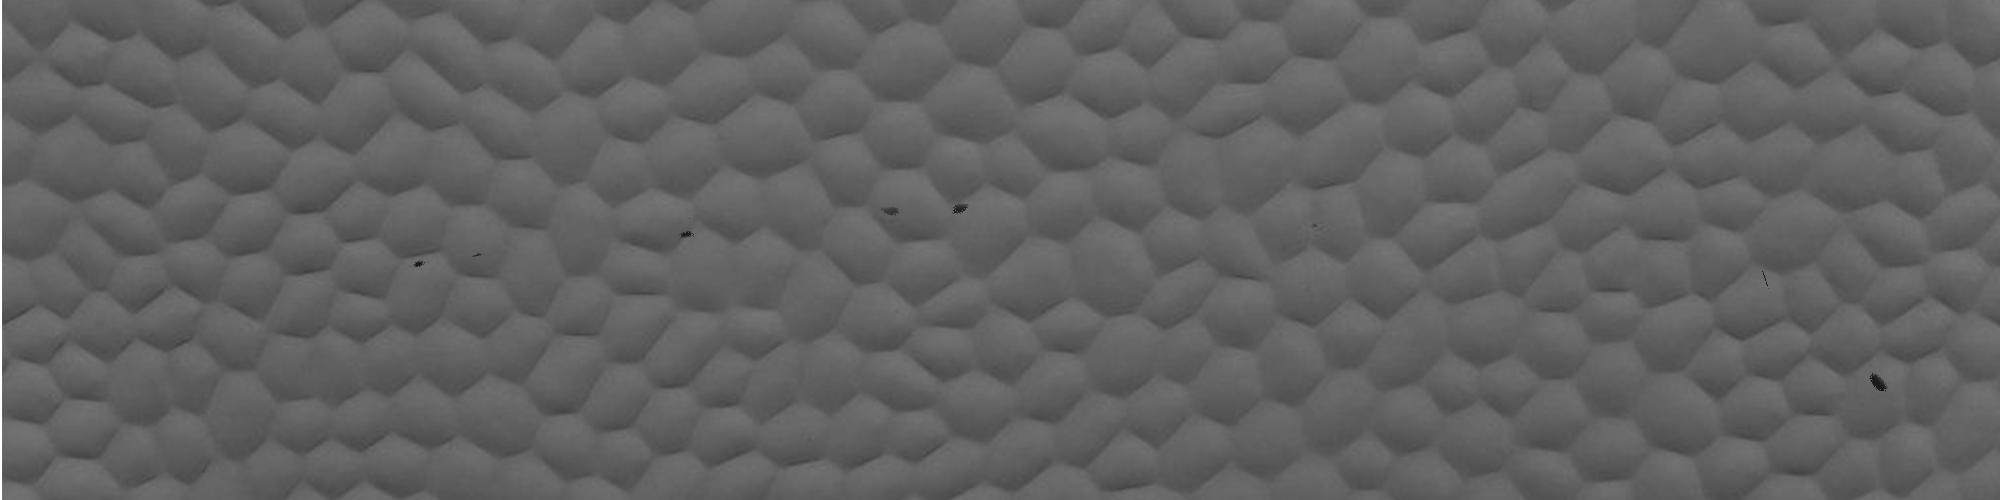Decomposed: (943, 198, 985, 221), (874, 198, 906, 224), (459, 244, 496, 263), (401, 253, 426, 274), (668, 222, 698, 240)
